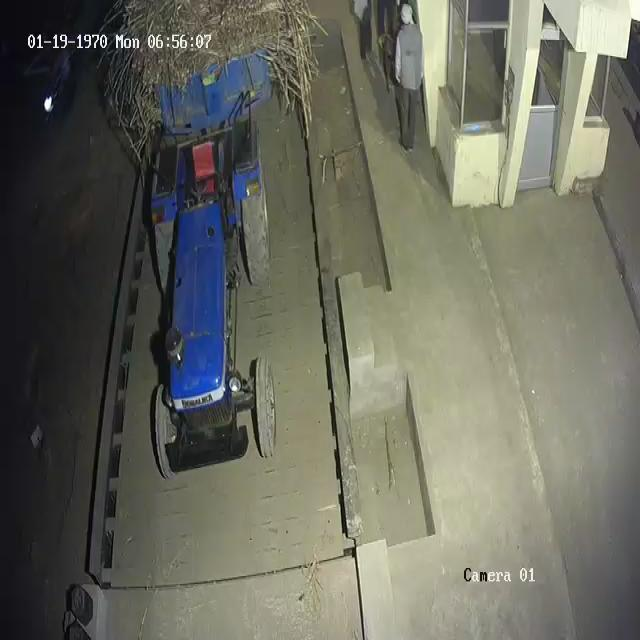Tratores - v5 YOLO V8L 2024-11-13: (148, 138, 283, 474)
